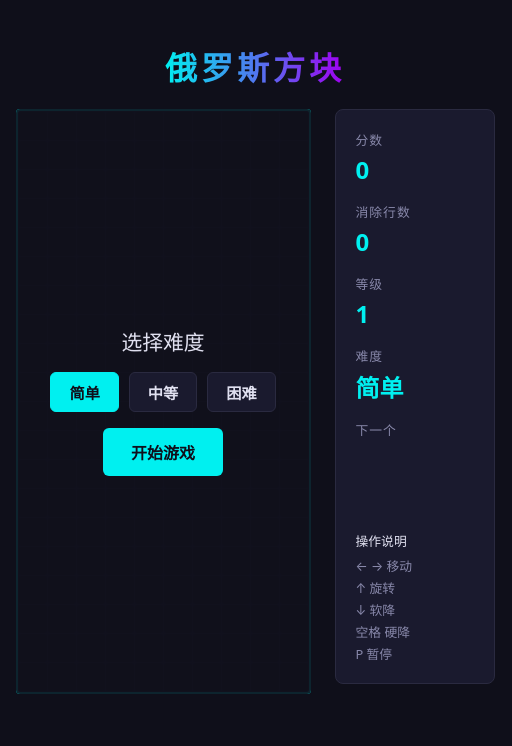
Test: App 集成测试 › 选择困难难度后开始，侧边面板显示对应难度
What coordinates should you click on to do the following:
click the button with test id "difficulty-hard"
I would click on:
 (241, 392)
Its box is [207,372,276,412].
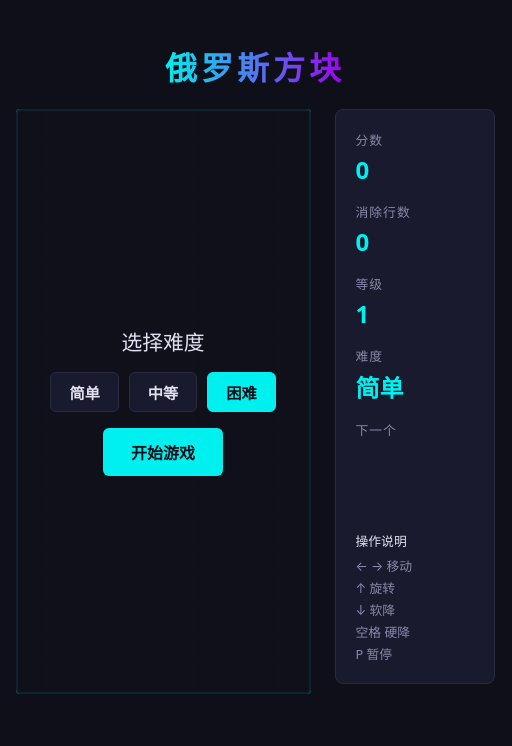
What coordinates should you click on to do the following:
click the button "开始游戏"
I would click on:
 (163, 452)
Its box is [103,428,223,476].
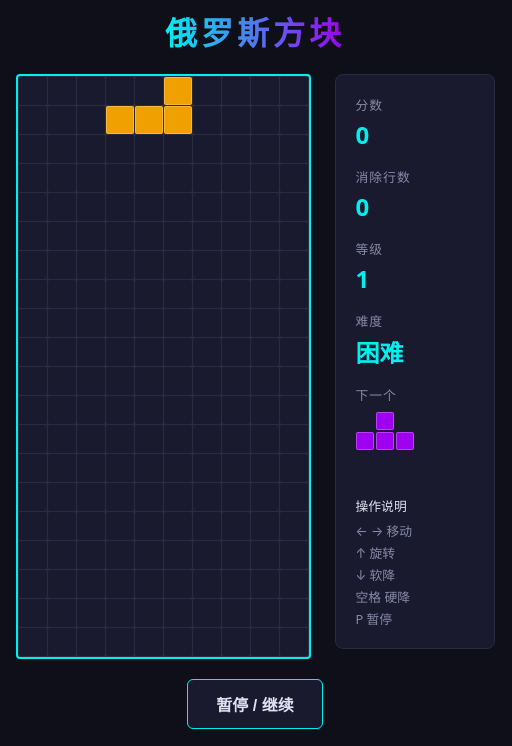
Expected: the text with test id "difficulty" reads "困难", [356,336,404,368]
